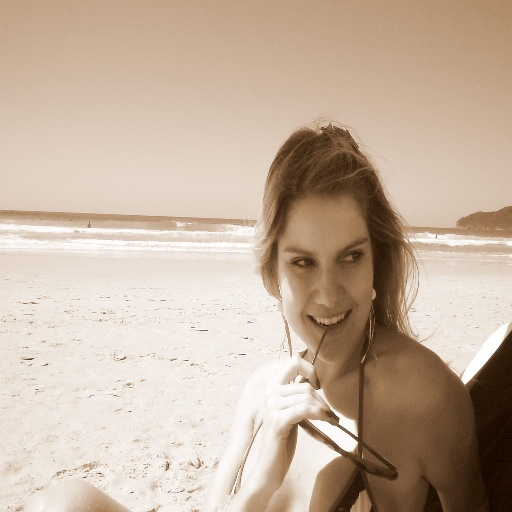hand: (230, 352, 336, 491)
